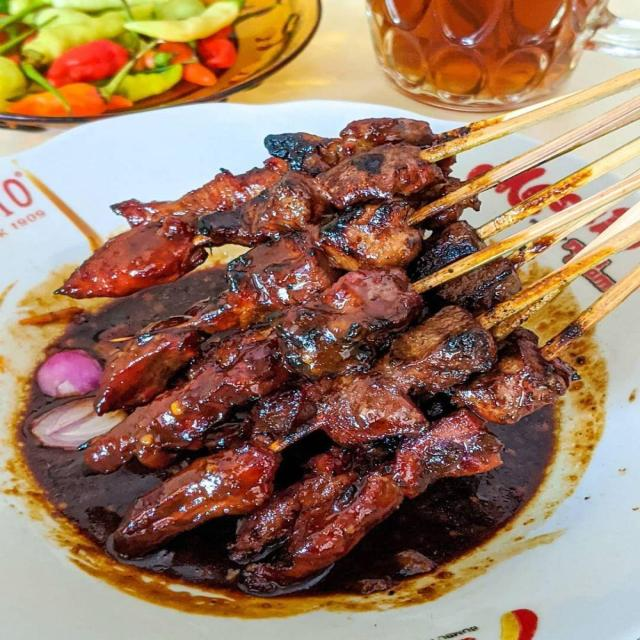Sate: (42, 53, 639, 595)
